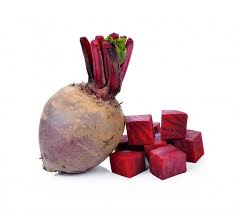beet: (39, 34, 133, 174)
